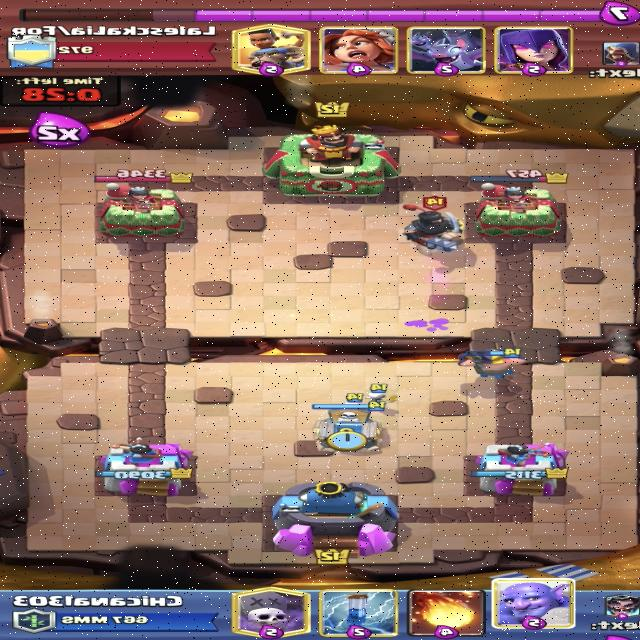Enemy-DarkPrince: (403, 195, 466, 252)
Player-Executioner: (457, 348, 529, 378)
Player-Skeleton: (364, 383, 397, 408), (340, 393, 373, 416)
Player-Tombstone: (310, 401, 386, 451)
